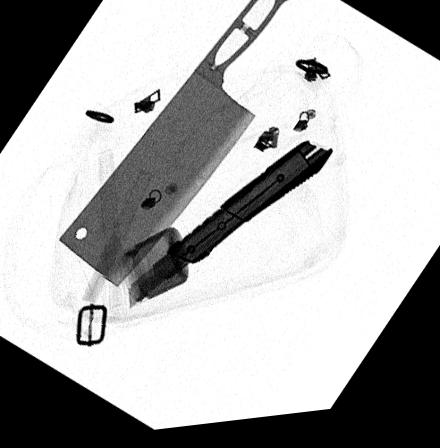Knife: (57, 0, 298, 290), (128, 146, 334, 312)
